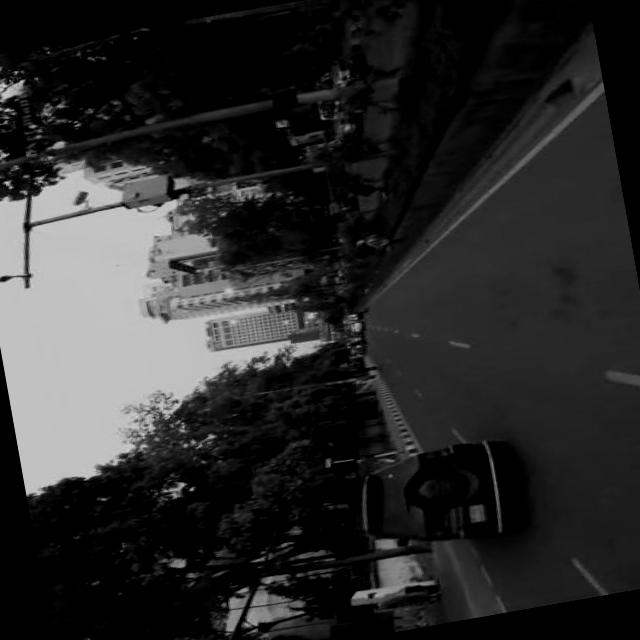car: (350, 438, 512, 558), (303, 57, 361, 125), (313, 115, 359, 153)
truck: (316, 196, 354, 223)
